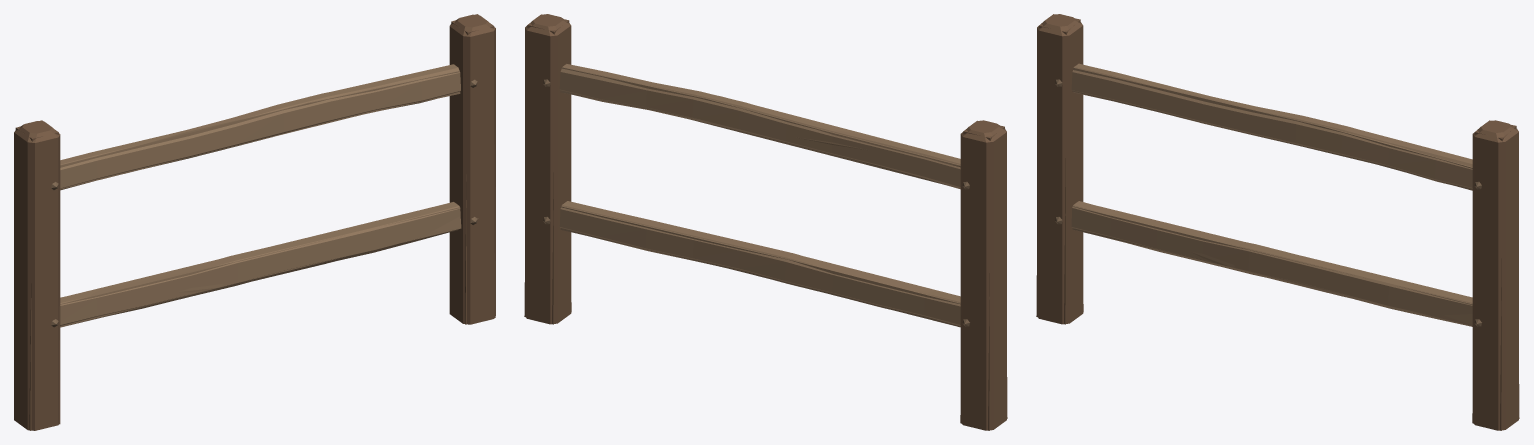
Rendered from pf_fence.glb.
3 views of the same model, side by side, from view 1: azimuth 30°, elevation 25°; view 2: azimuth 150°, elevation 25°; view 3: azimuth 330°, elevation 25° (orthographic).
Parts seen in each view (by area): view 1: body, body__far; view 2: body, body__far; view 3: body, body__far.
Boxes of the visible parts, x1,y1,x2,y2 form: body: (14,14,495,430); body__far: (15,14,495,430); body: (525,14,1006,430); body__far: (524,14,1007,430); body: (1037,14,1518,430); body__far: (1036,14,1519,430).
Bounding box in the file's own units: 1 × 0.6 × 0.082.
